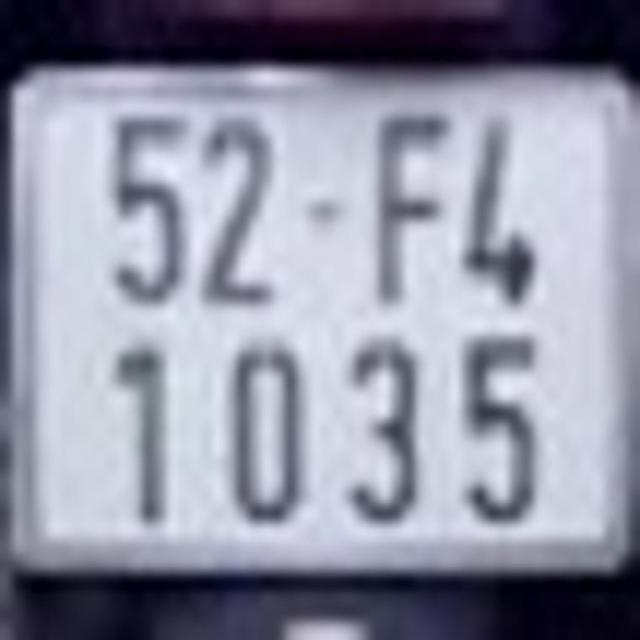0: (226, 335, 307, 527)
1: (110, 340, 176, 524)
2: (200, 112, 280, 309)
3: (344, 329, 421, 526)
4: (464, 109, 540, 310)
5: (461, 327, 542, 527), (110, 109, 188, 306)
F: (373, 108, 451, 305)
